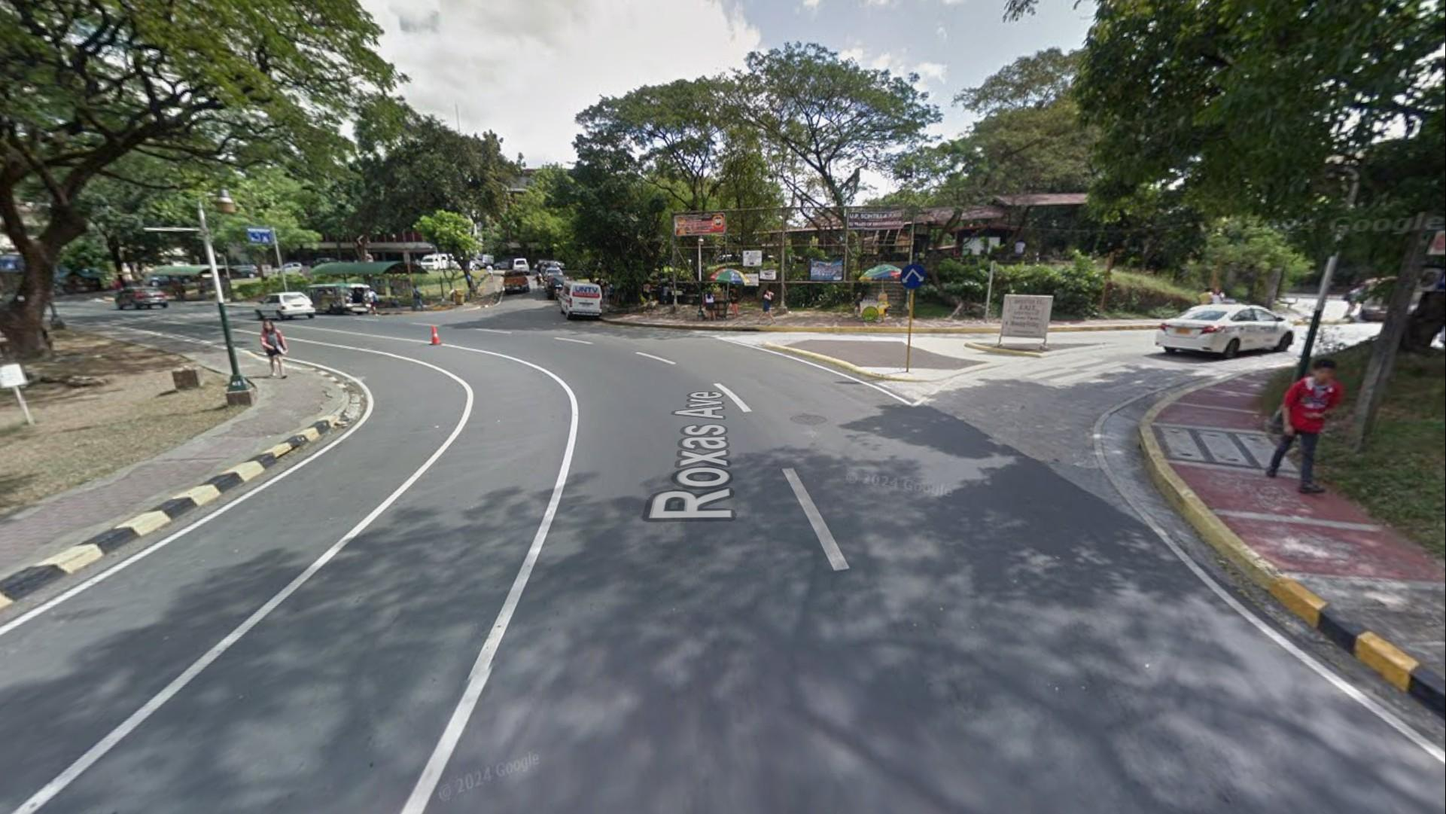pedestrian: (1265, 357, 1342, 494), (259, 318, 289, 381), (1341, 282, 1366, 323), (756, 289, 778, 324), (1206, 284, 1225, 321), (410, 284, 425, 312), (705, 289, 717, 322), (729, 287, 740, 318), (368, 288, 379, 317), (486, 262, 494, 284)
